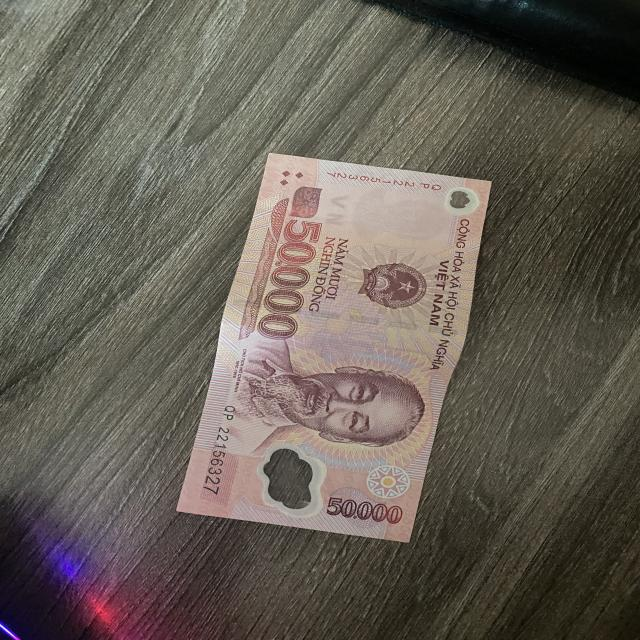50 000 VND: (174, 152, 494, 544)
